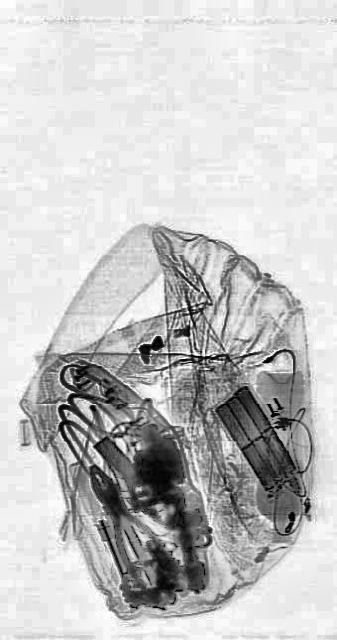Pliers: (77, 442, 169, 600)
